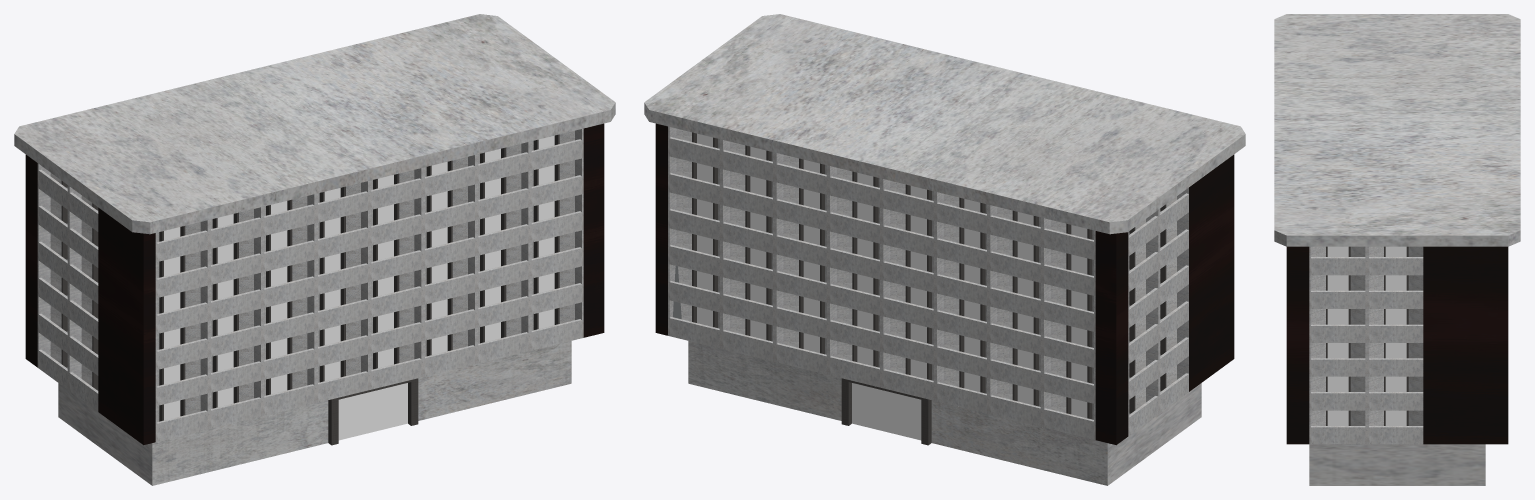
The model's file is ApartmentComplex (1).glb.
The picture shows the model from 3 angles, left to right: view 1: azimuth 30°, elevation 25°; view 2: azimuth 150°, elevation 25°; view 3: azimuth 270°, elevation 25°; orthographic projection. The views are drawn at different scales.
Parts seen in each view (by area): view 1: extra, apartment, window, glass doors; view 2: extra, apartment, window, glass doors; view 3: extra, apartment, window.
Part boxes in pixels (x1,y1,x2,y2): extra: [14, 14, 615, 485]; apartment: [37, 128, 583, 441]; window: [164, 135, 554, 420]; glass doors: [338, 383, 407, 440]; extra: [644, 14, 1245, 485]; apartment: [668, 126, 1188, 439]; window: [697, 133, 1087, 418]; glass doors: [852, 383, 921, 440]; extra: [1274, 14, 1520, 485]; apartment: [1309, 246, 1423, 444]; window: [1327, 246, 1406, 425].
Size of the model in its own units: 84.67 by 47.24 by 39.76.
5 materials, 2 textured.
